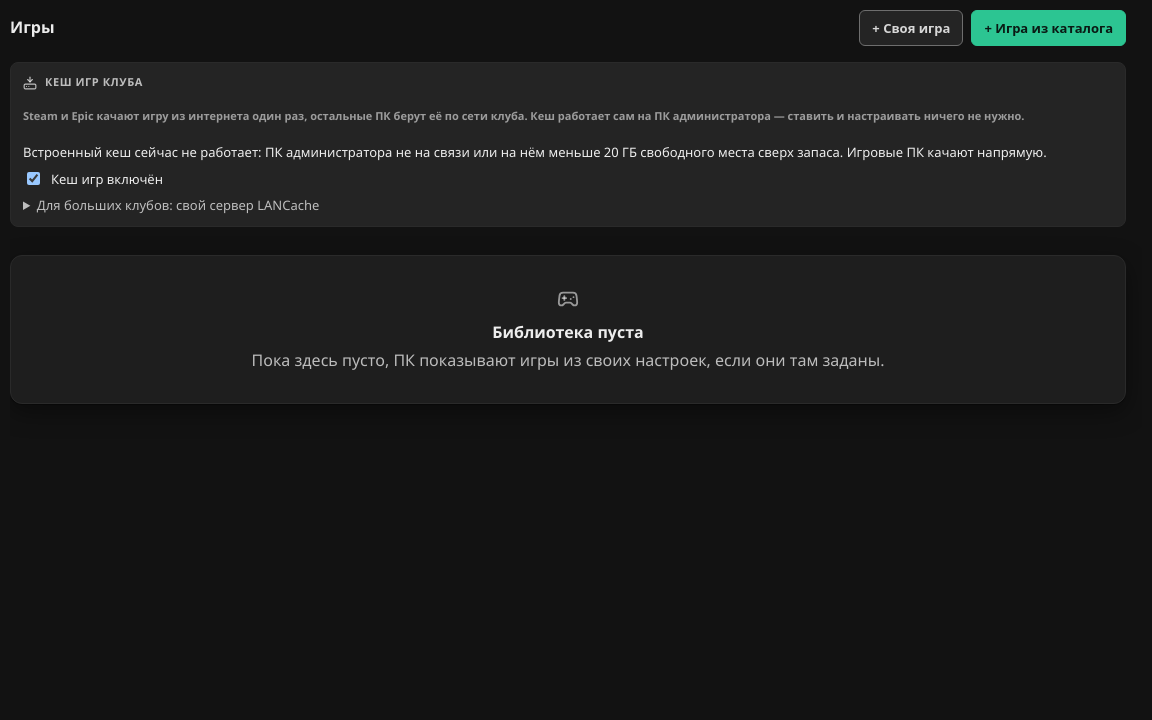
GamesDestination › refuses a Steam game without a numeric AppID before asking the server
Expected: the heading "Библиотека пуста" is shown, [492,321,644,343]
Click the button "+ Своя игра" at (911, 28), box [859,10,963,46]
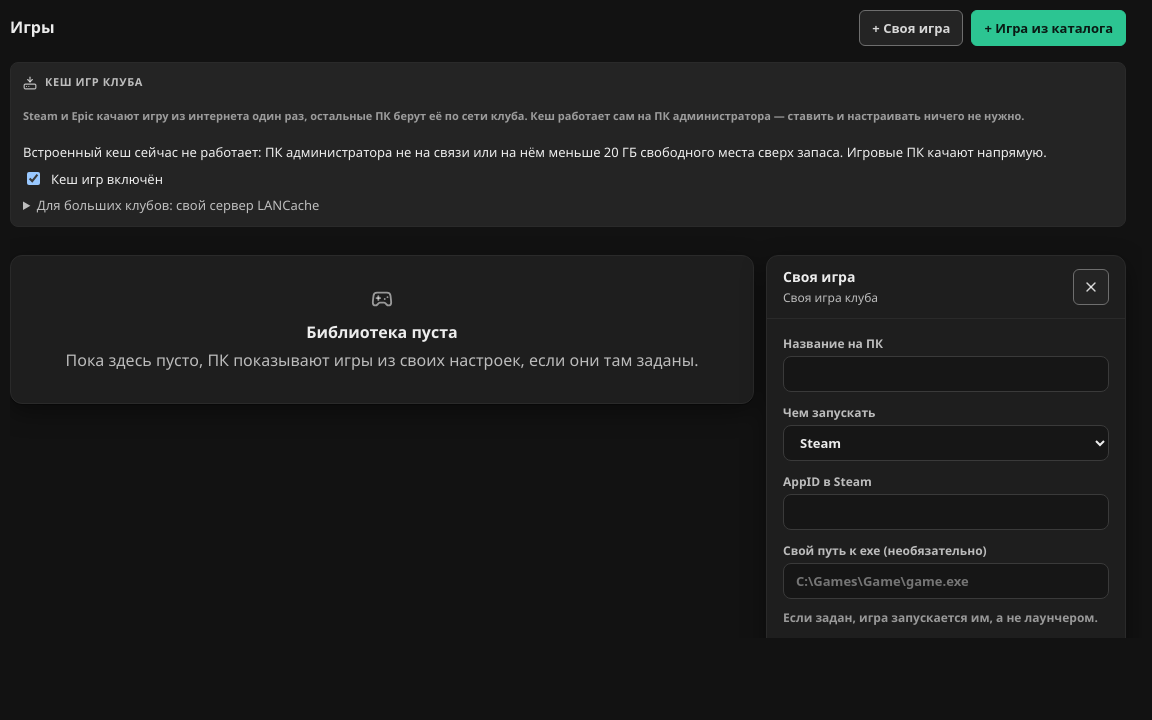
Type "Dota 2" into the field labelled "Название на ПК" at (946, 374), box [783,356,1109,392]
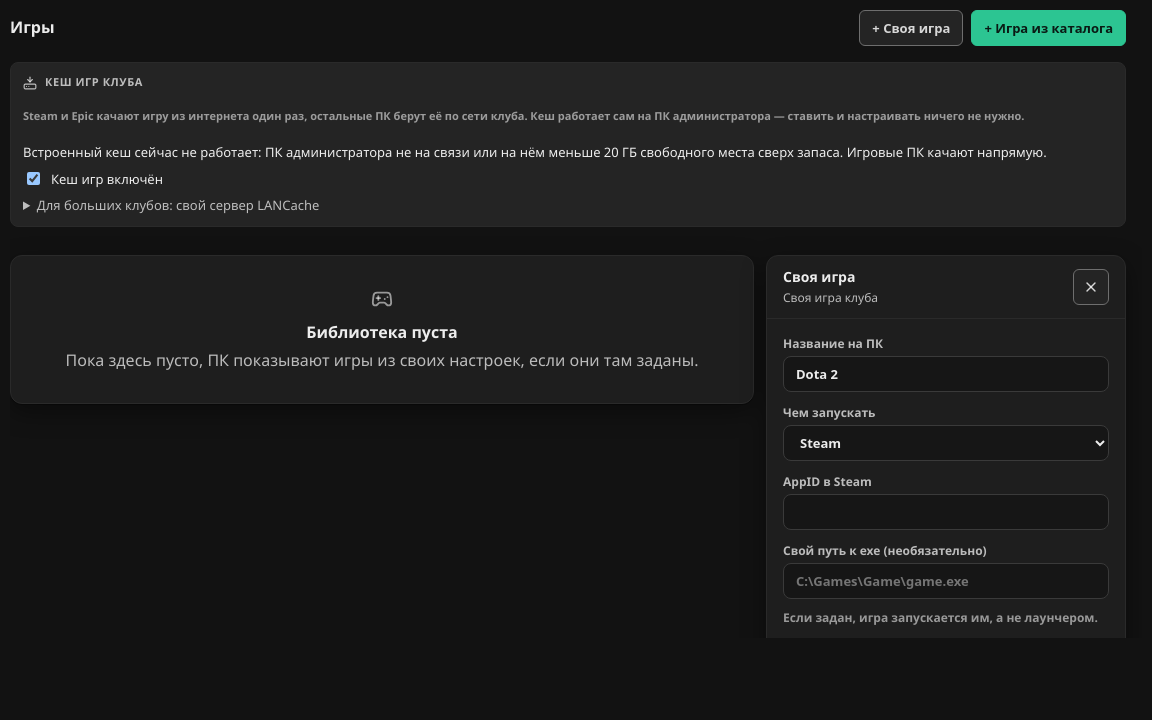
Type "dota" into the field labelled "AppID в Steam" at (946, 512), box [783,494,1109,530]
(page scrolled)
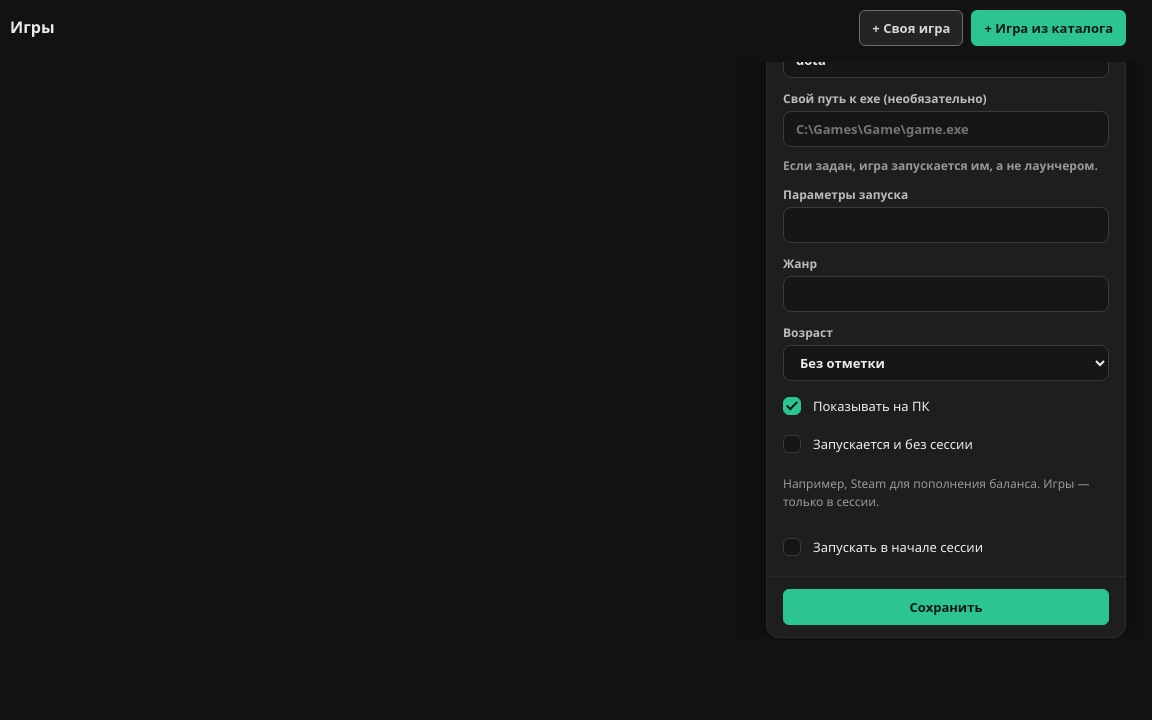
Click the button "Сохранить" at (946, 607), box [783,589,1109,625]
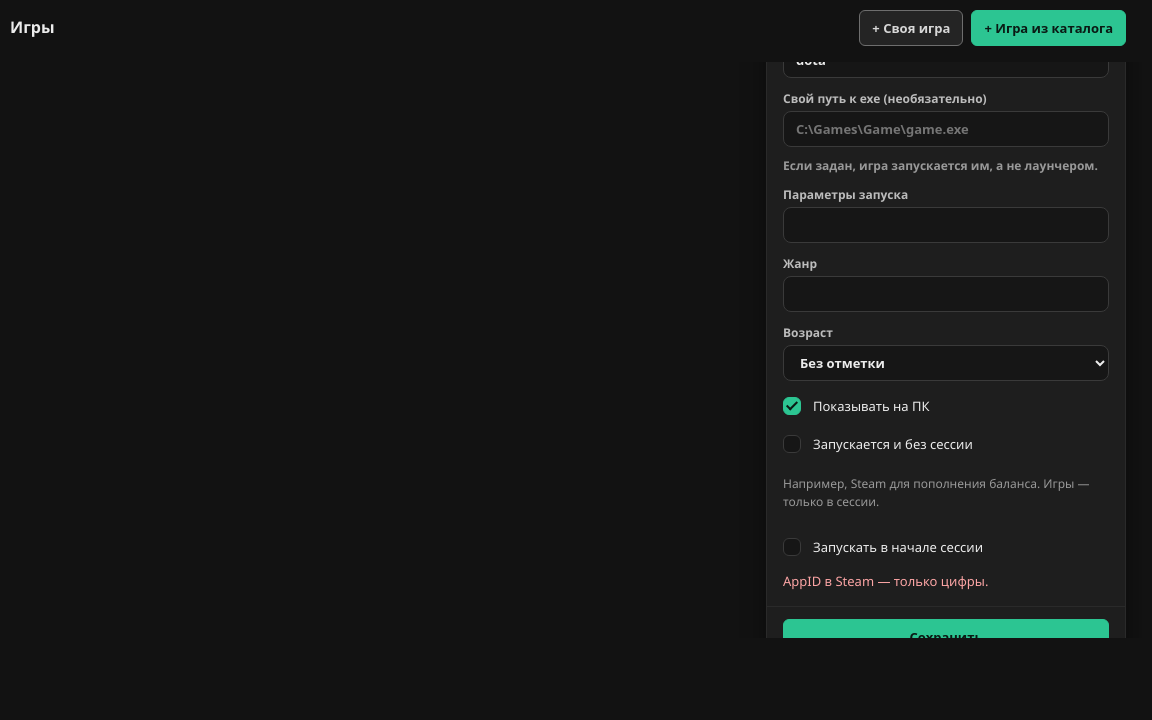
Result: the text "AppID в Steam — только цифры." is shown at [783,572,988,590]
